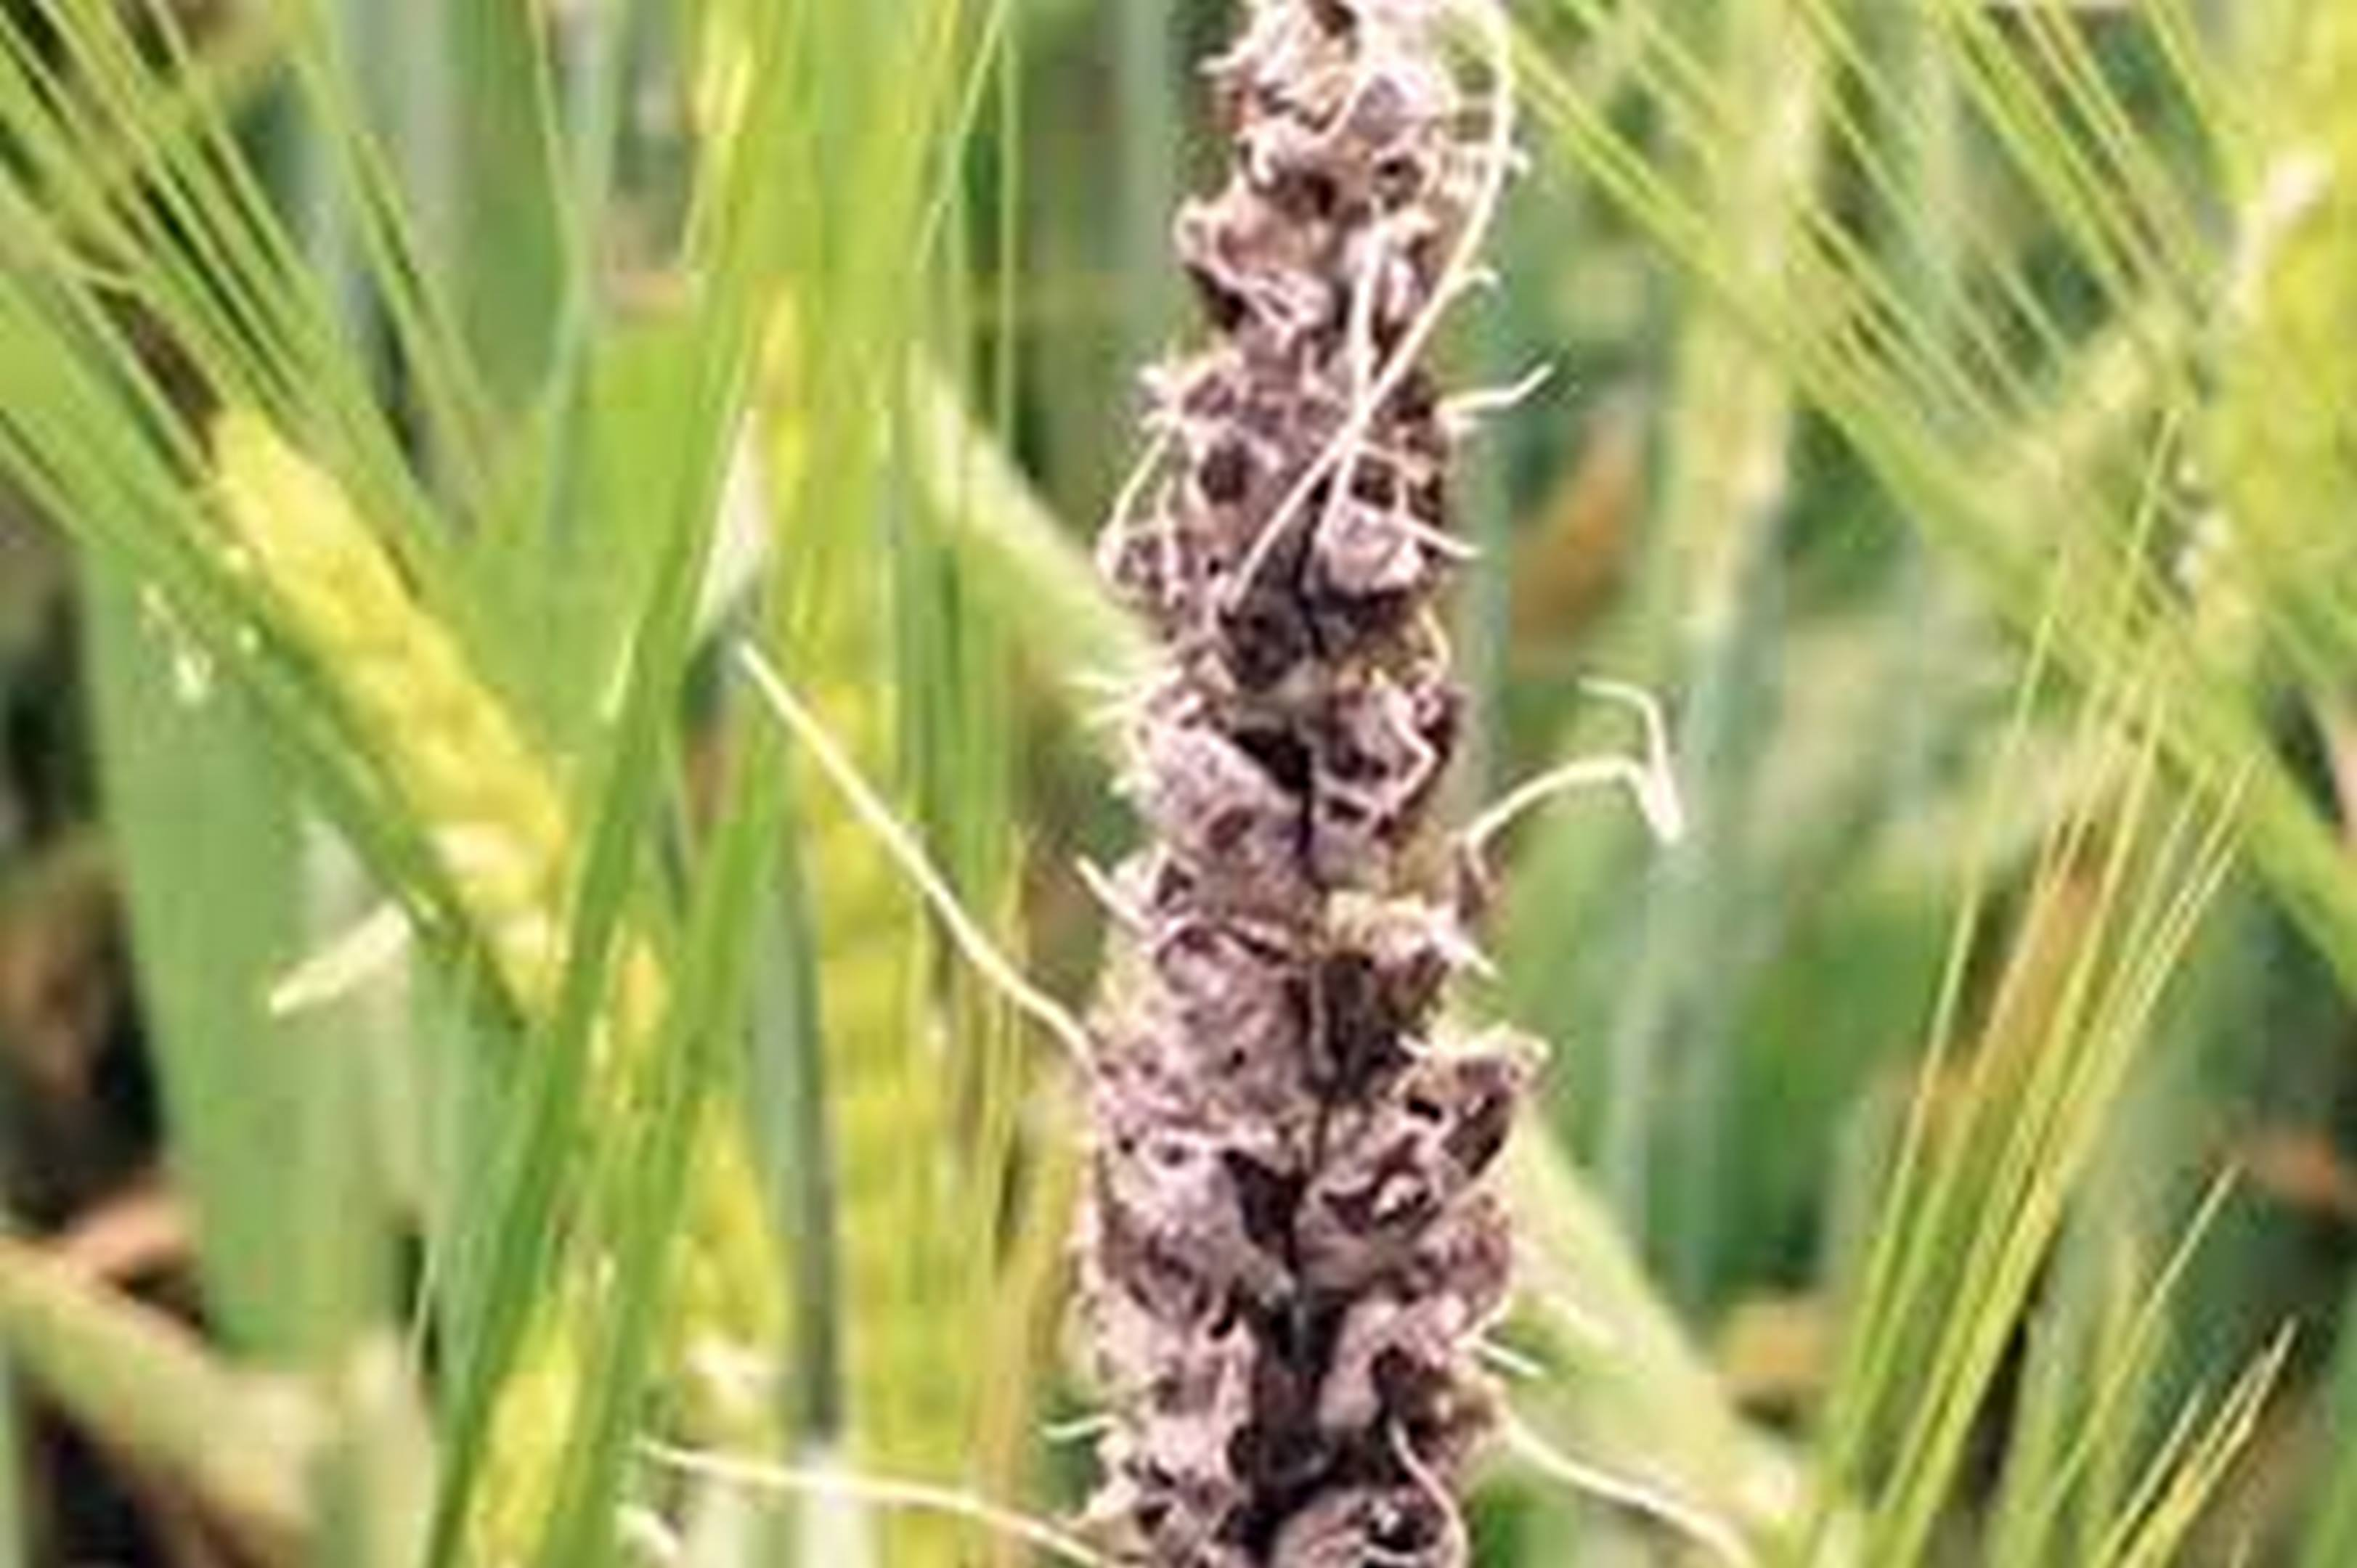Wheat Loose Smut: (1039, 24, 1561, 1526)
